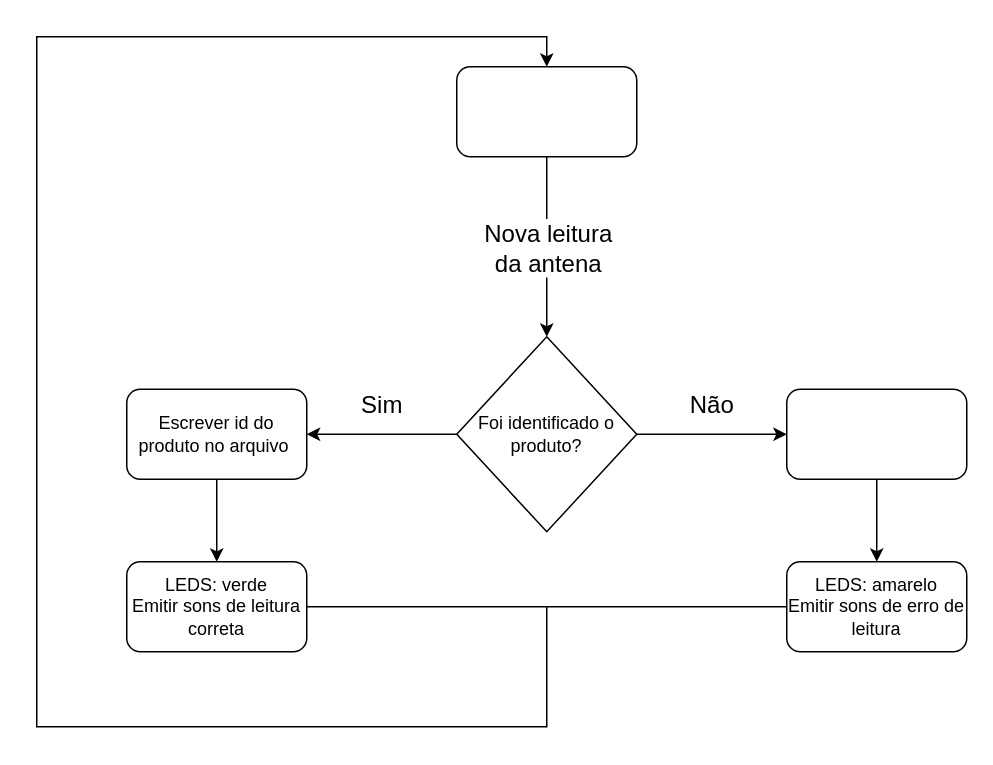
Some shapes in this 993 by 765 pixel diagram are drawn without their labels. The box of each missing label's shape, as (x1, y1, x2, y2) in pixels:
Espera: (455, 65, 637, 157)
Pedir para cliente passar o produto novamente: (785, 388, 967, 479)
